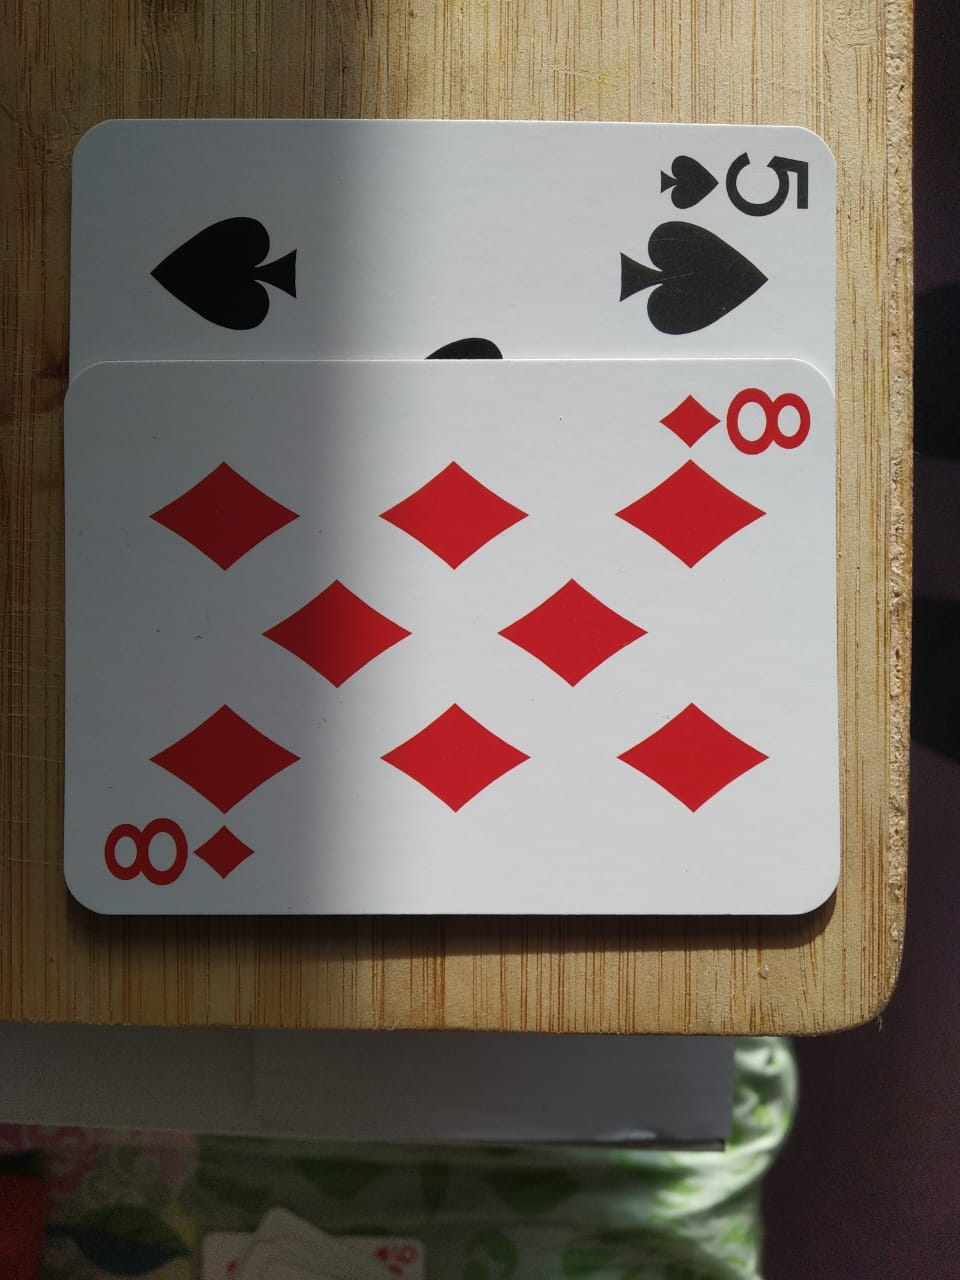eight: (36, 347, 881, 959)
